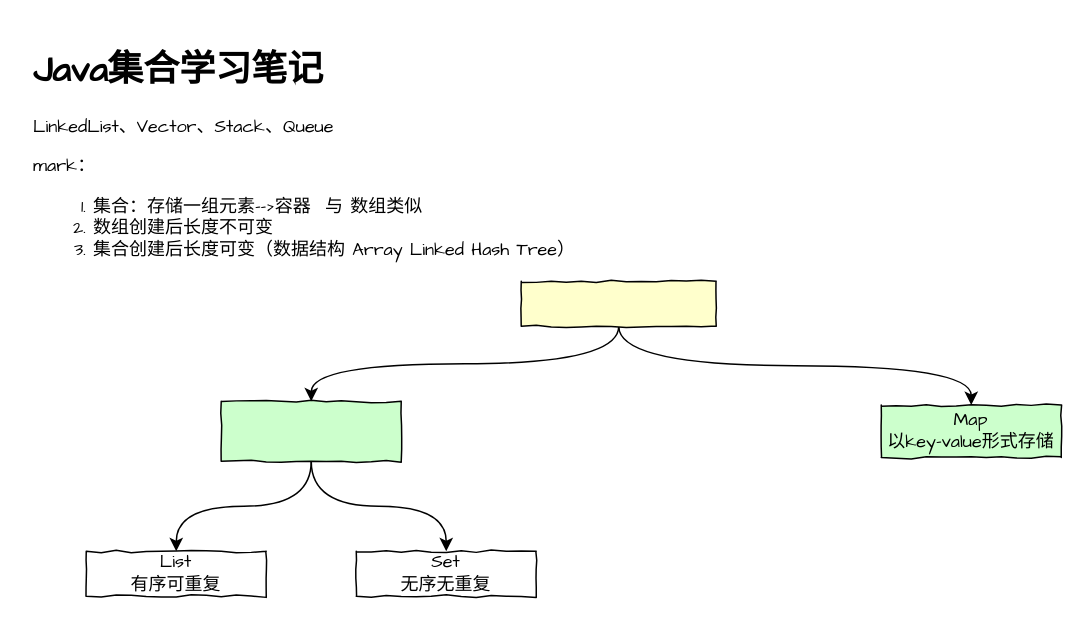
Image size: 1088x623. Some labels were removed from this diagram. The shapes that lost their labels are listed below. From the top down, each one's box as (x1, y1, x2, y2) in pixels, then its label:
(520, 280, 716, 326): 集合
(220, 400, 401, 461): Collection 以value形式存储
